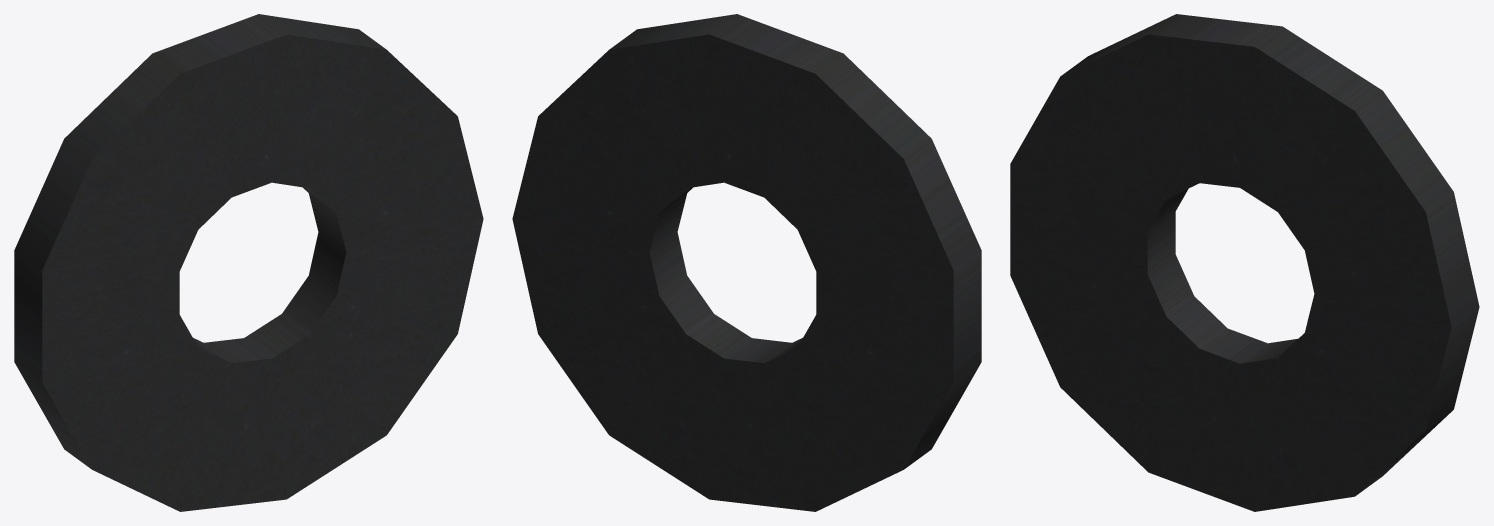
Rendered from Washer.dae.
The picture shows the model from 3 angles, left to right: view 1: azimuth 30°, elevation 25°; view 2: azimuth 150°, elevation 25°; view 3: azimuth 330°, elevation 25°; orthographic projection.
Parts seen in each view (by area): view 1: Washer; view 2: Washer; view 3: Washer.
Part boxes in pixels (x1,y1,x2,y2): Washer: (14, 14, 483, 511); Washer: (512, 14, 981, 511); Washer: (1010, 14, 1479, 511).
Bounding box in the file's own units: 0.0154 × 0.00169 × 0.0156.
1 material, 1 textured.
